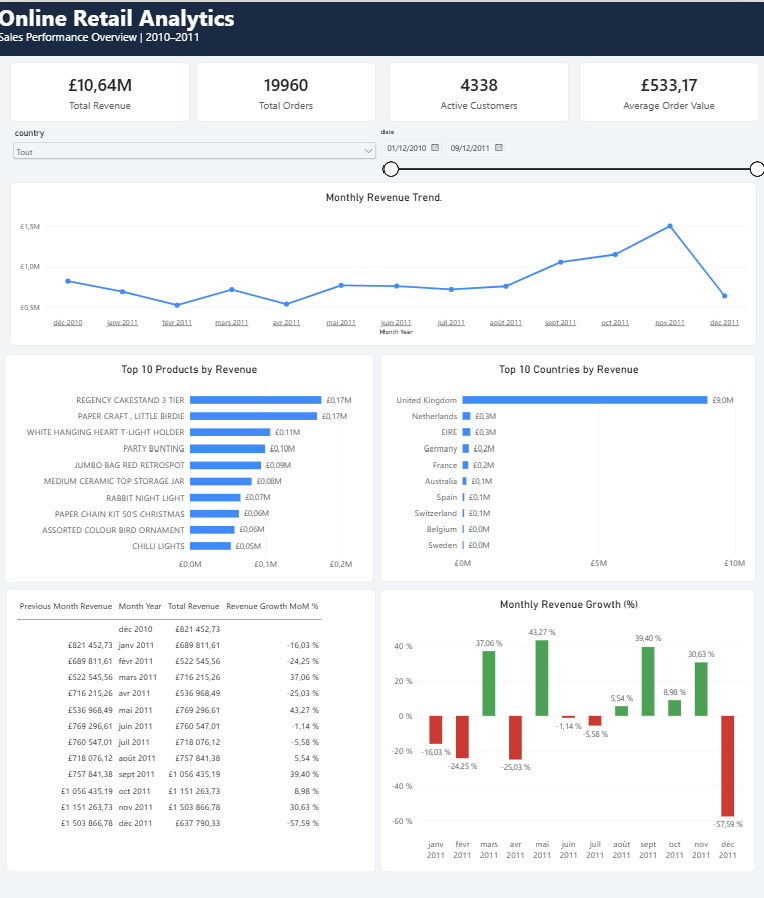

The page's visual inventory and layout, read from the dashboard file:
{"tool":"powerbi","page":{"name":"Sales Overview.","canvas":[1280,1500],"ordinal":0},"visuals":[{"type":"card","fields":{"Values":["public fact_sales.Total Revenue V2"]},"box":[20,100,300,100],"z":0},{"type":"card","fields":{"Values":["public fact_sales.Average Order Value V2"]},"box":[965,100,300,100],"z":1000},{"type":"card","fields":{"Values":["public fact_sales.Total Orders V2"]},"box":[331.4,100,300,100],"z":2000},{"type":"card","fields":{"Values":["public fact_sales.Active Customers V2"]},"box":[650,100,300,100],"z":3000},{"type":"lineChart","title":"Monthly Revenue Trend.","fields":{"Category":["public dim_date.Month Year"],"Y":["public fact_sales.Total Revenue V2"]},"box":[20,301.4,1242.9,272.9],"z":4000},{"type":"clusteredBarChart","title":"Top 10 Countries by Revenue","fields":{"Category":["public dim_country.country"],"Y":["public fact_sales.Total Revenue V2"]},"box":[637.1,585.7,624.3,378.6],"z":5000},{"type":"clusteredBarChart","title":"Top 10 Products by Revenue","fields":{"Category":["public dim_product.product_name"],"Y":["public fact_sales.Total Revenue V2"]},"box":[11.4,585.7,615.7,380],"z":6000},{"type":"slicer","fields":{"Values":["public dim_country.country"]},"box":[20,210,615.7,91.4],"z":7000},{"type":"slicer","fields":{"Values":["public dim_date.date"]},"box":[630,210,650,91.4],"z":8000},{"type":"shape","box":[0,0,1920,90],"z":9000},{"type":"textbox","box":[1609,498,310,175],"z":10000},{"type":"textbox","box":[0,0,1000,50],"z":11000},{"type":"textbox","box":[0,25,1538.3,50],"z":12000},{"type":"tableEx","fields":{"Values":["public fact_sales.Previous Month Revenue","public dim_date.Month Year","public fact_sales.Total Revenue","public fact_sales.Revenue Growth MoM %"]},"box":[12,976,616,472],"z":13000},{"type":"clusteredColumnChart","title":"Monthly Revenue Growth (%)","fields":{"Category":["public dim_date.Month Year"],"Y":["public fact_sales.Revenue Growth MoM %"]},"box":[637,976,624,472],"z":14000}]}

Visuals, with their boxes in screenshot pixels (x1, y1, x2, y2), scaled from the page's 1280x1500 canvas onto the 764x898 screenshot:
card - public fact_sales.Total Revenue V2: {"left": 12, "top": 60, "right": 191, "bottom": 120}
card - public fact_sales.Average Order Value V2: {"left": 576, "top": 60, "right": 755, "bottom": 120}
card - public fact_sales.Total Orders V2: {"left": 198, "top": 60, "right": 377, "bottom": 120}
card - public fact_sales.Active Customers V2: {"left": 388, "top": 60, "right": 567, "bottom": 120}
"Monthly Revenue Trend." lineChart: {"left": 12, "top": 180, "right": 754, "bottom": 344}
"Top 10 Countries by Revenue" clusteredBarChart: {"left": 380, "top": 351, "right": 753, "bottom": 577}
"Top 10 Products by Revenue" clusteredBarChart: {"left": 7, "top": 351, "right": 374, "bottom": 578}
slicer - public dim_country.country: {"left": 12, "top": 126, "right": 379, "bottom": 180}
slicer - public dim_date.date: {"left": 376, "top": 126, "right": 763, "bottom": 180}
shape: {"left": 0, "top": 0, "right": 763, "bottom": 54}
textbox: {"left": 0, "top": 0, "right": 597, "bottom": 30}
textbox: {"left": 0, "top": 15, "right": 763, "bottom": 45}
tableEx - public fact_sales.Previous Month Revenue x public dim_date.Month Year: {"left": 7, "top": 584, "right": 375, "bottom": 867}
"Monthly Revenue Growth (%)" clusteredColumnChart: {"left": 380, "top": 584, "right": 753, "bottom": 867}
